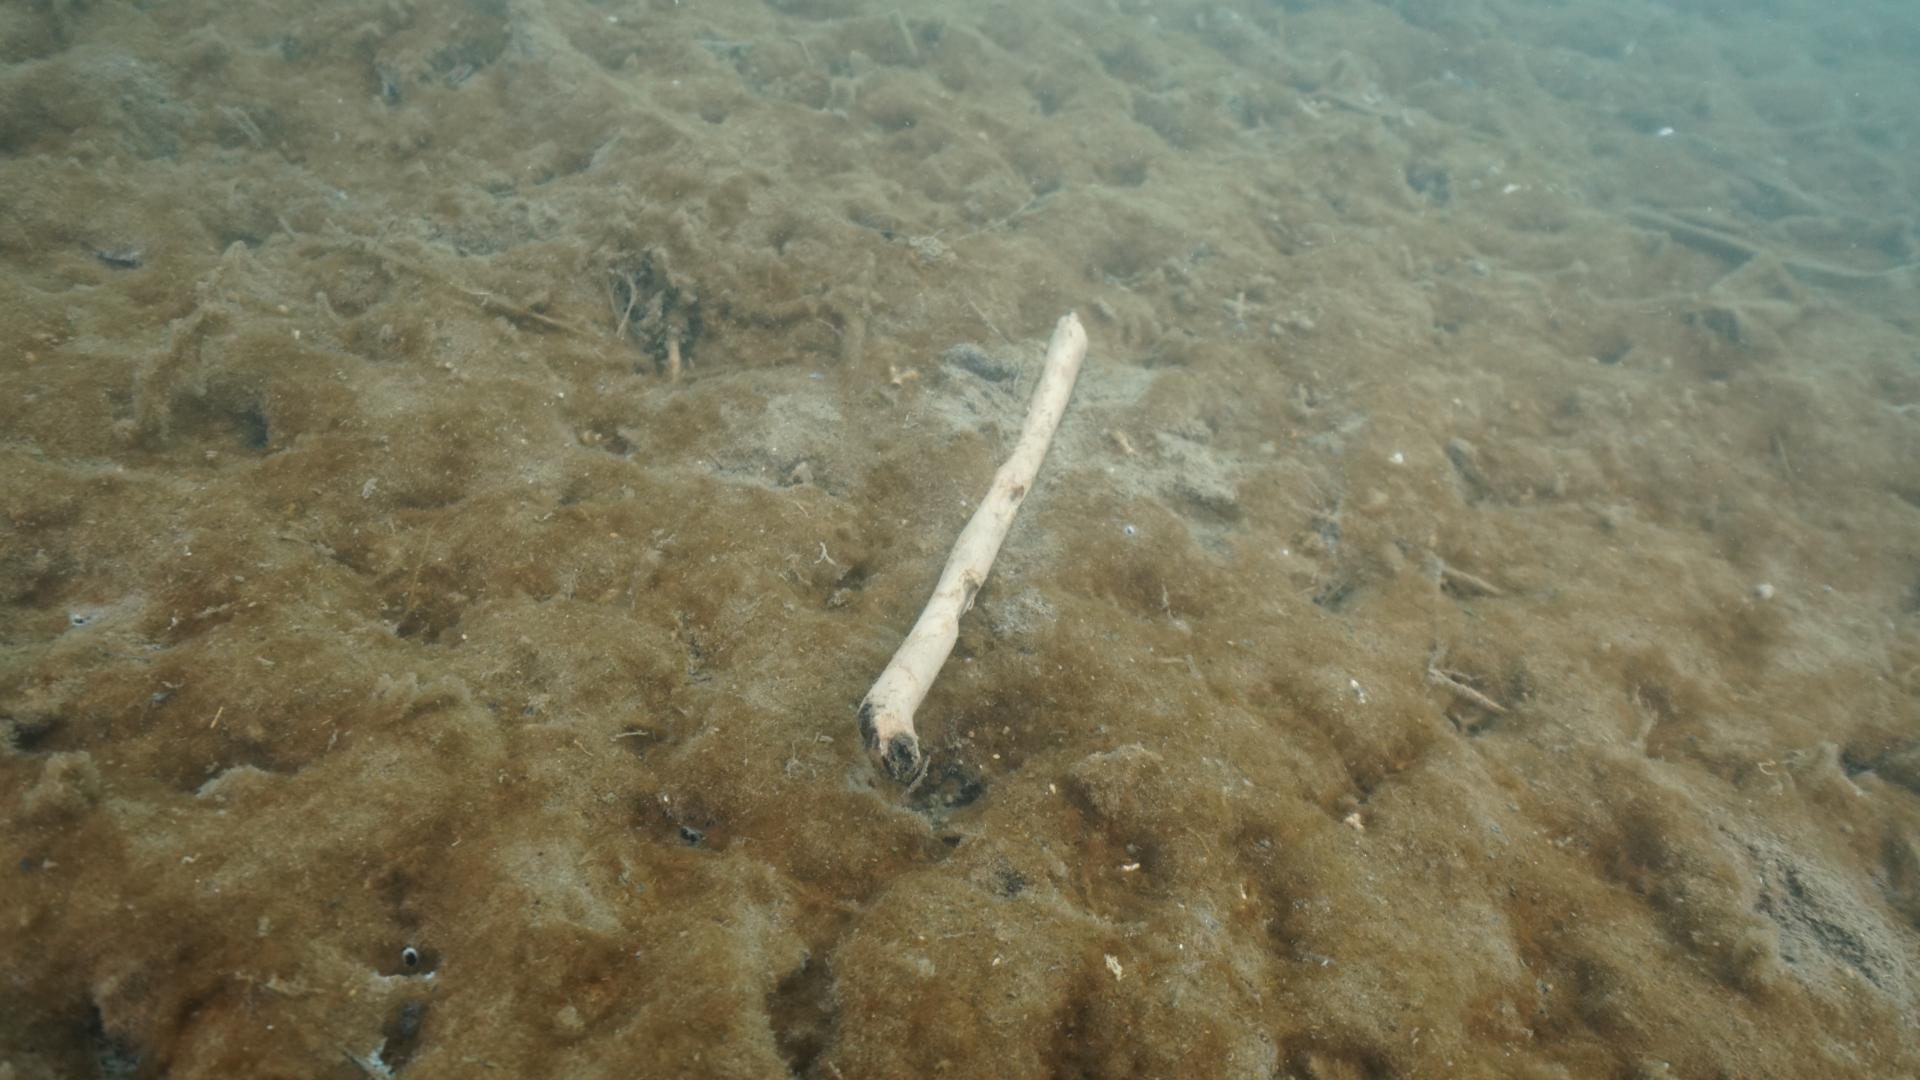wood: (855, 307, 1091, 781)
